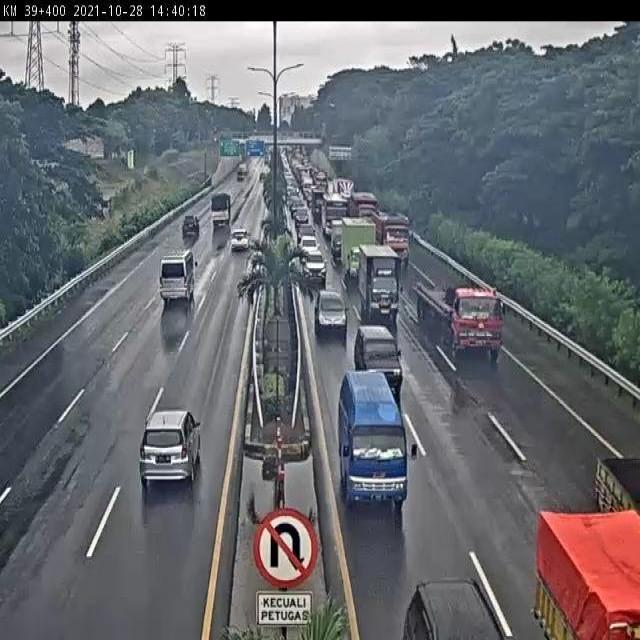bus-s-: (337, 364, 412, 508)
car: (137, 407, 206, 489), (354, 324, 404, 388), (316, 290, 349, 338), (300, 246, 328, 286), (296, 233, 321, 260), (229, 225, 250, 252)
small bus: (157, 248, 197, 303)
truck-l-: (368, 208, 409, 263)
truck-m-: (359, 241, 402, 319), (342, 215, 377, 285)
truck-xl-: (414, 275, 504, 360)
